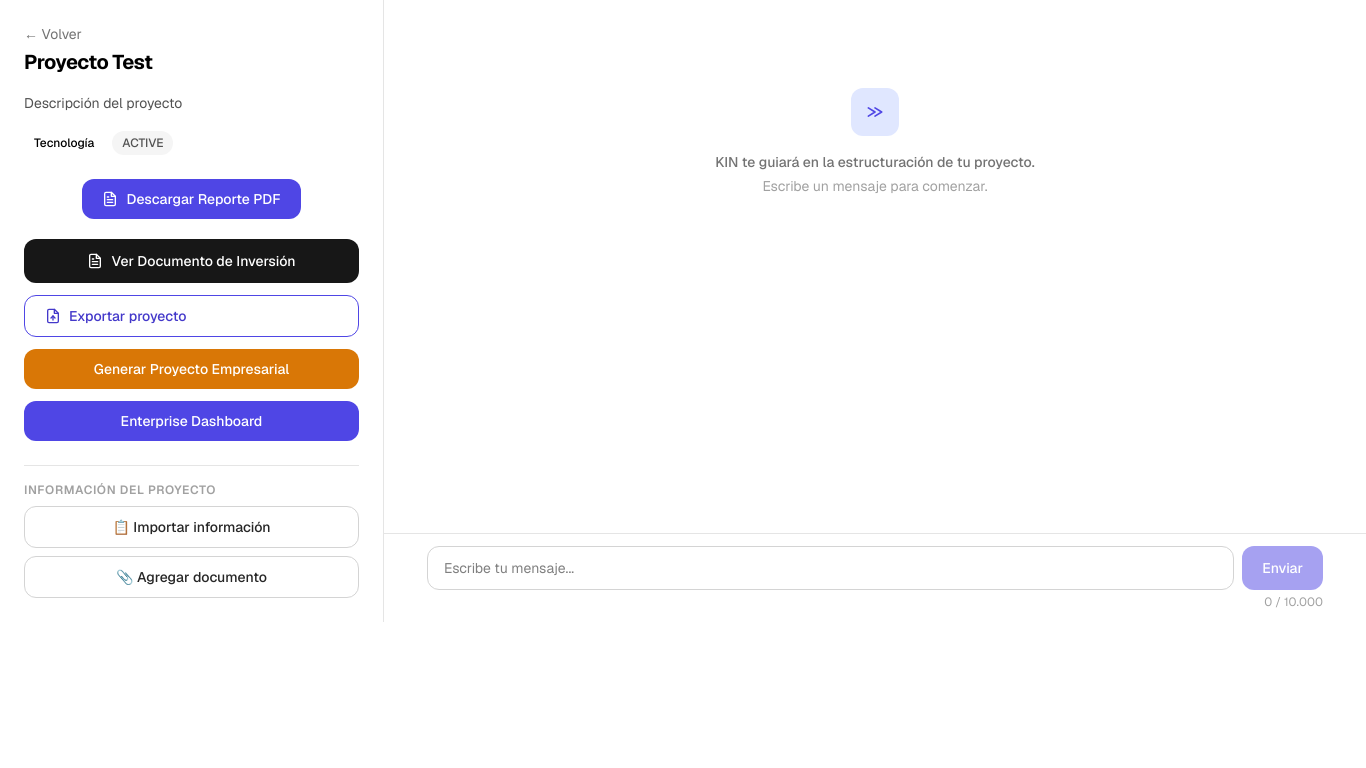
Test: ProjectDetailPage — protección del chat (10.000 caracteres) › done con content vacío conserva los tokens acumulados
expect the heading "Proyecto Test" is shown: met, box [24,48,152,76]
In the field with placeholder "Escribe tu mensaje...": {"x": 831, "y": 568} [427,546,1234,590], type "hola KIN"
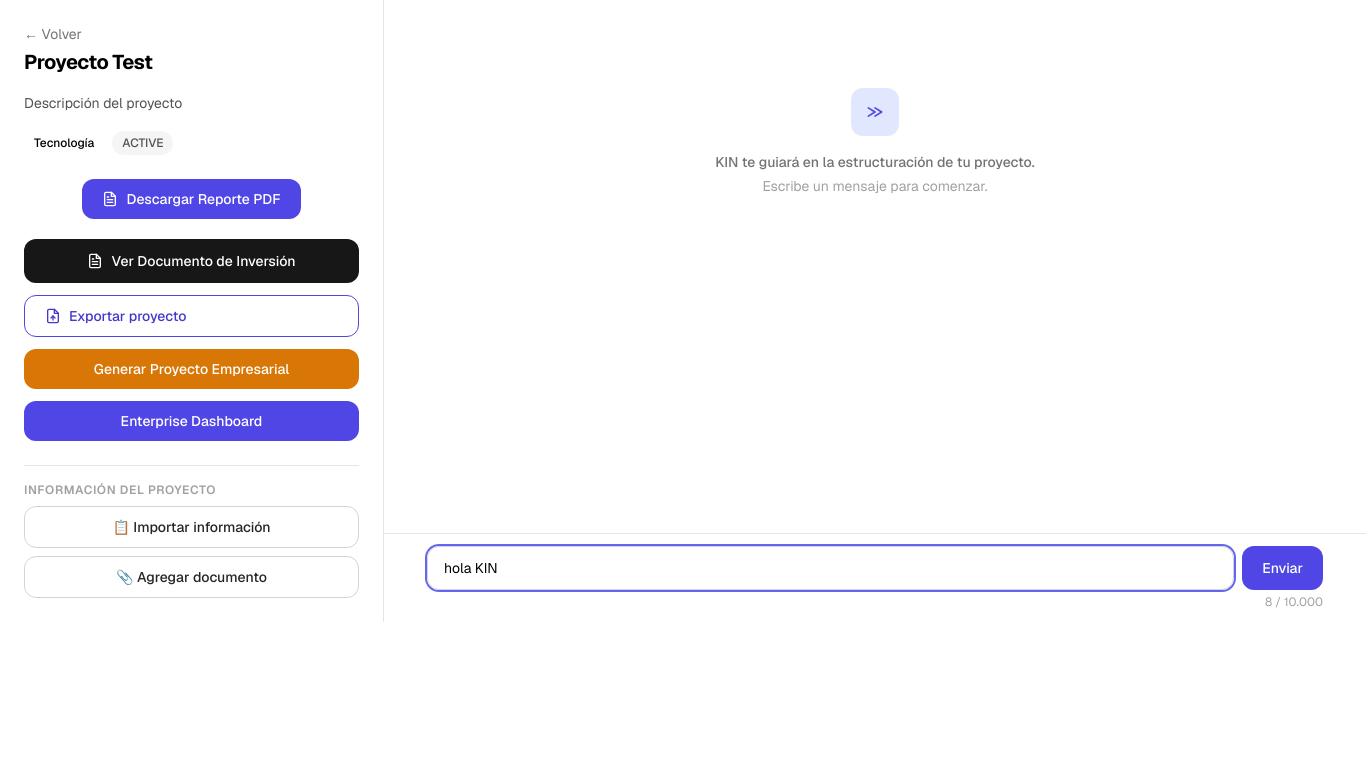
Click the button "Enviar": {"x": 1283, "y": 568} [1242,546,1323,590]
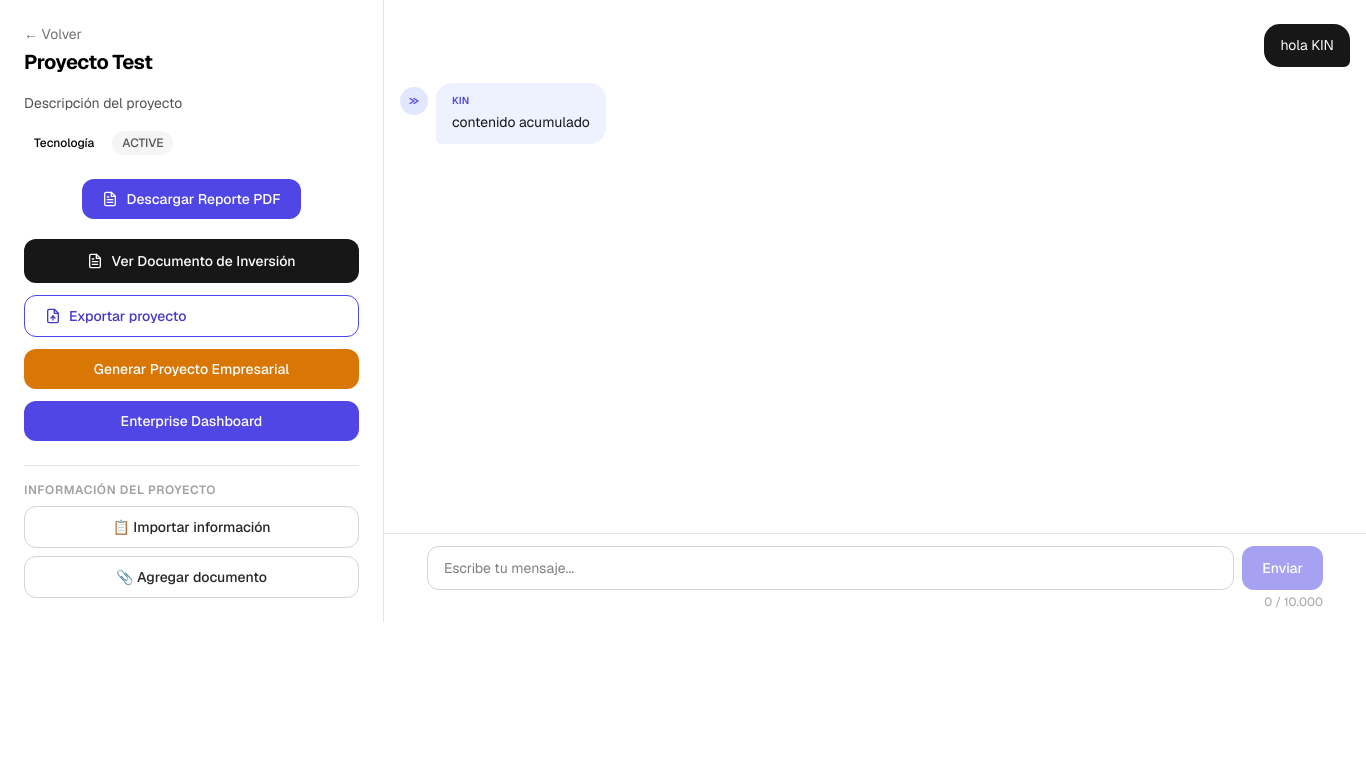
expect the text "contenido acumulado" is shown: met, box [452,113,590,131]
